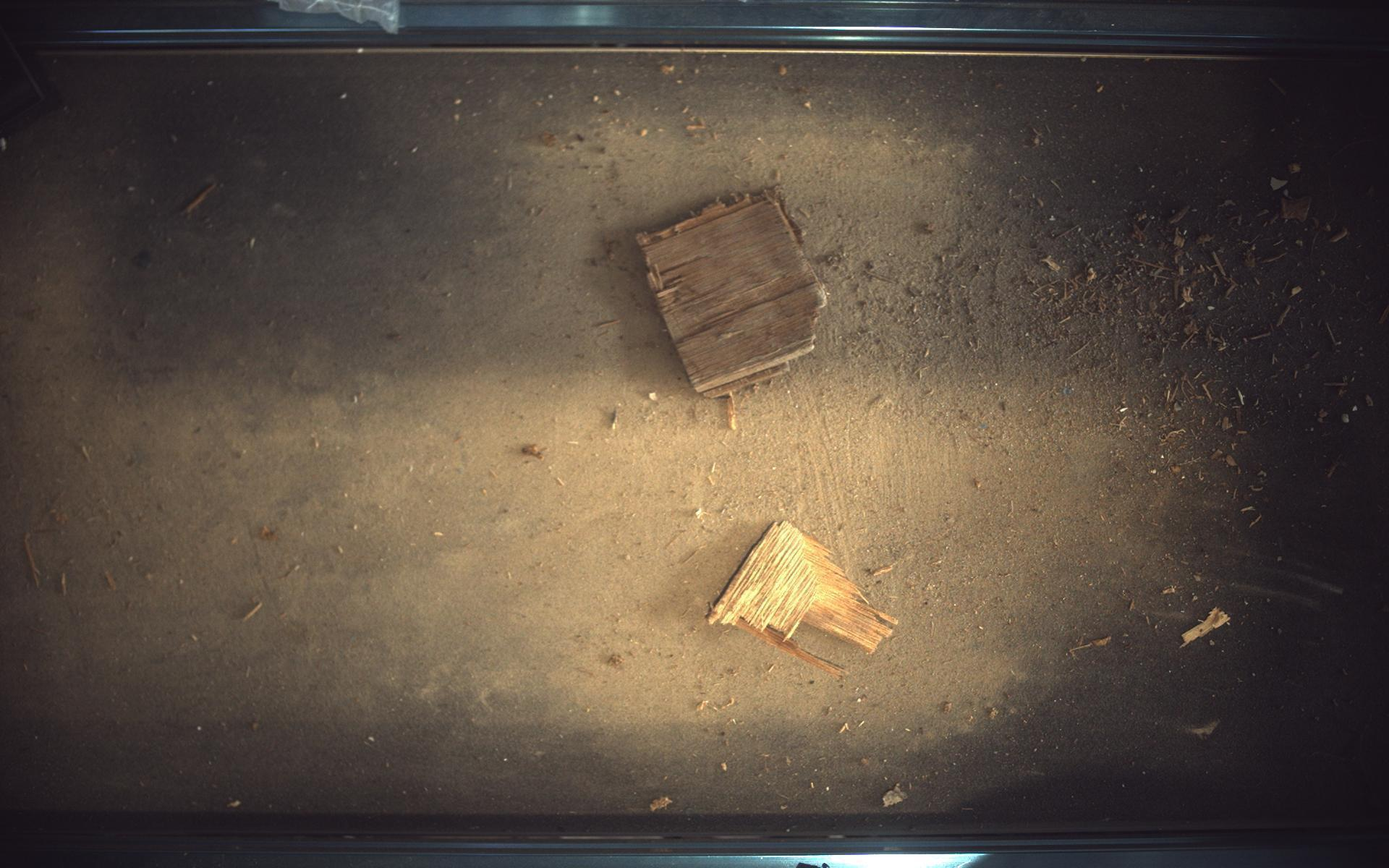wood: (638, 190, 828, 397), (709, 523, 900, 678)
